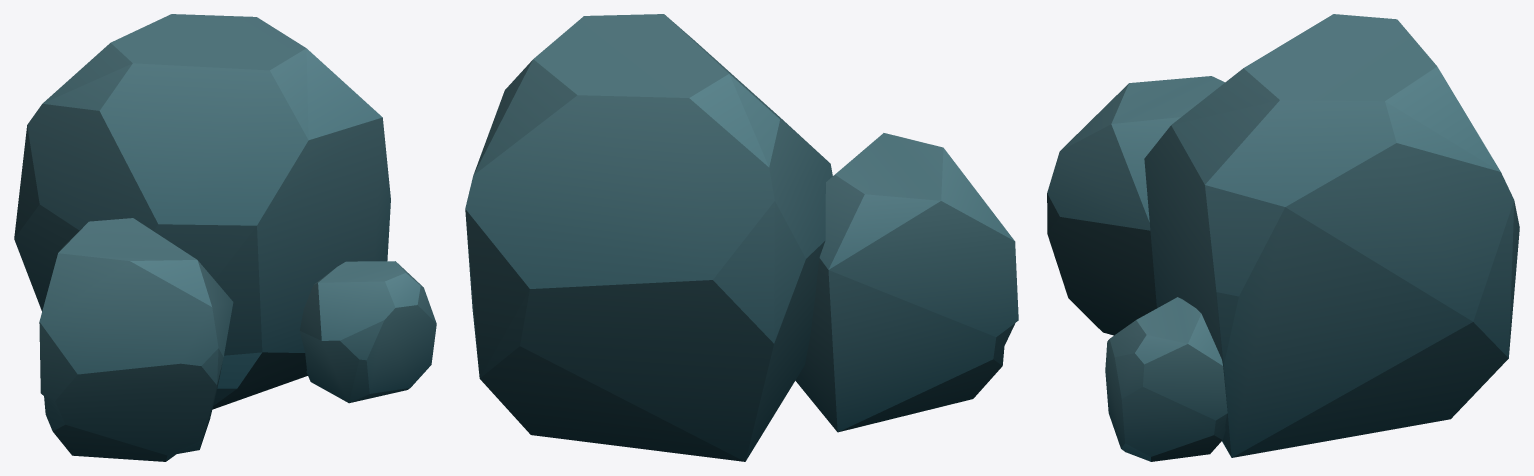
File: stone_big_1.fbx
3 renders of one model, left to right at view 1: azimuth 30°, elevation 25°; view 2: azimuth 150°, elevation 25°; view 3: azimuth 270°, elevation 25°, orthographic. The views are drawn at different scales.
Parts seen in each view (by area): view 1: stone_big_1; view 2: stone_big_1; view 3: stone_big_1.
Part boxes in pixels (x1,y1,x2,y2): stone_big_1: (14,14,436,461); stone_big_1: (465,14,1018,461); stone_big_1: (1047,14,1519,461).
Size of the model in its own units: 1.78 by 1.36 by 1.71.
